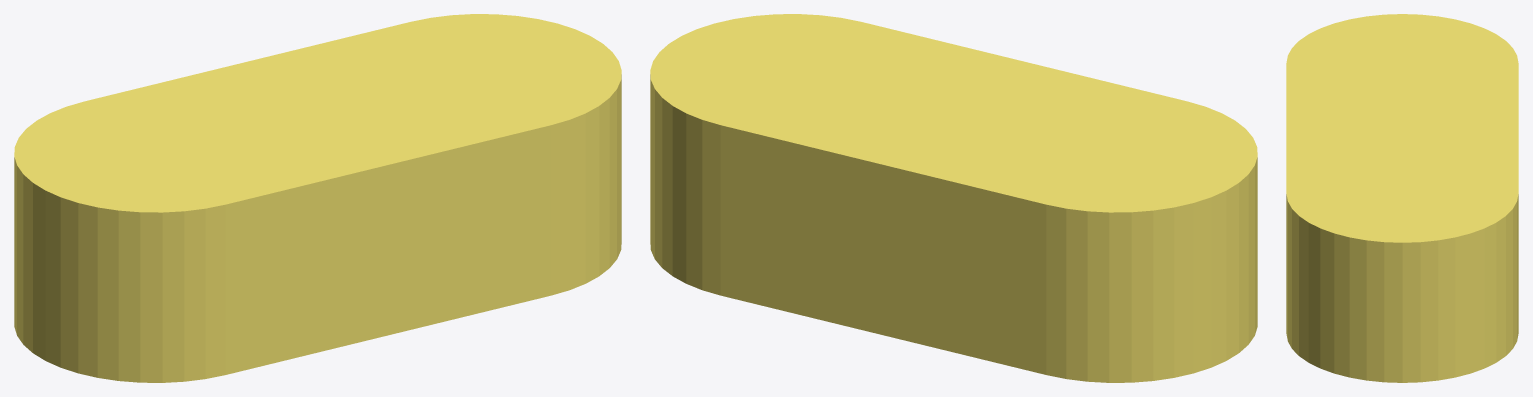
File: lozenge.glb
3 views of the same model, side by side, from view 1: azimuth 30°, elevation 25°; view 2: azimuth 150°, elevation 25°; view 3: azimuth 270°, elevation 25° (orthographic). The views are drawn at different scales.
Bounding box in the file's own units: 28 × 8 × 12.
